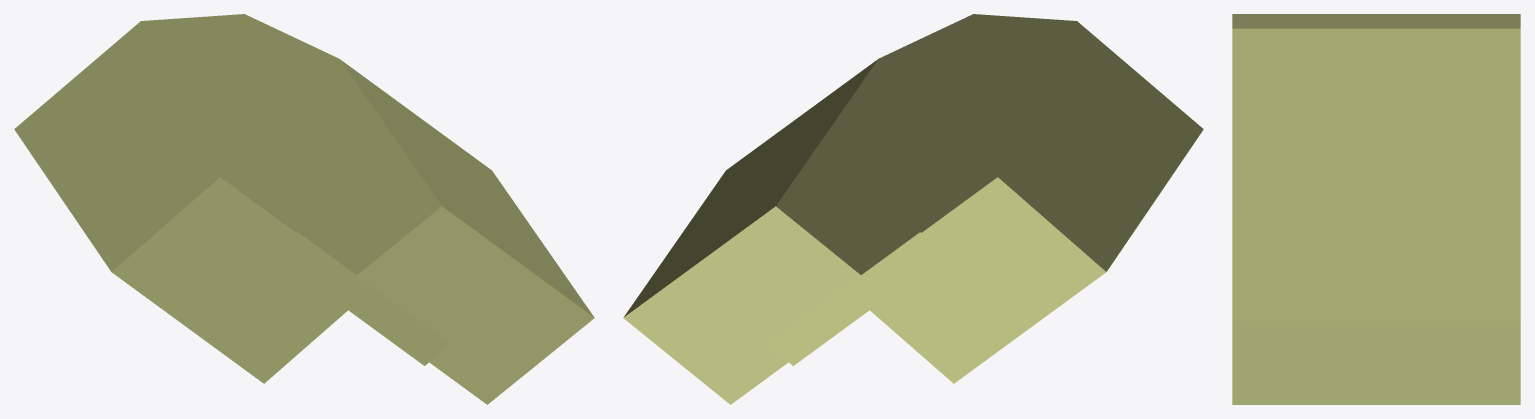
The picture shows the model from 3 angles, left to right: view 1: azimuth 30°, elevation 25°; view 2: azimuth 150°, elevation 25°; view 3: azimuth 270°, elevation 25°; orthographic projection. The views are drawn at different scales.
Parts seen in each view (by area): view 1: 0_0_1_1_2_1_2_1_3_2; view 2: 0_0_1_1_2_1_2_1_3_2; view 3: 0_0_1_1_2_1_2_1_3_2.
Part boxes in pixels (bbox=[...]): 0_0_1_1_2_1_2_1_3_2: bbox=[14, 14, 594, 404]; 0_0_1_1_2_1_2_1_3_2: bbox=[623, 14, 1203, 404]; 0_0_1_1_2_1_2_1_3_2: bbox=[1232, 14, 1520, 404].
Bounding box in the file's own units: 14.57 × 10.39 × 9.
